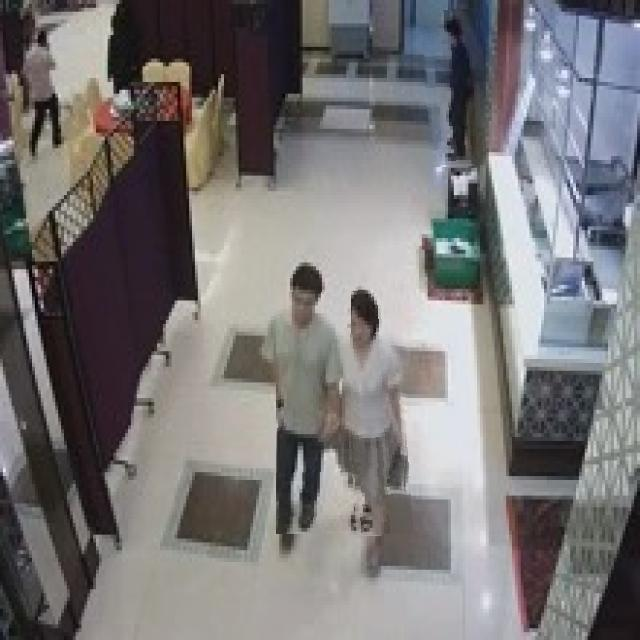normal: (276, 223, 352, 534), (345, 232, 408, 536), (424, 8, 485, 167)
